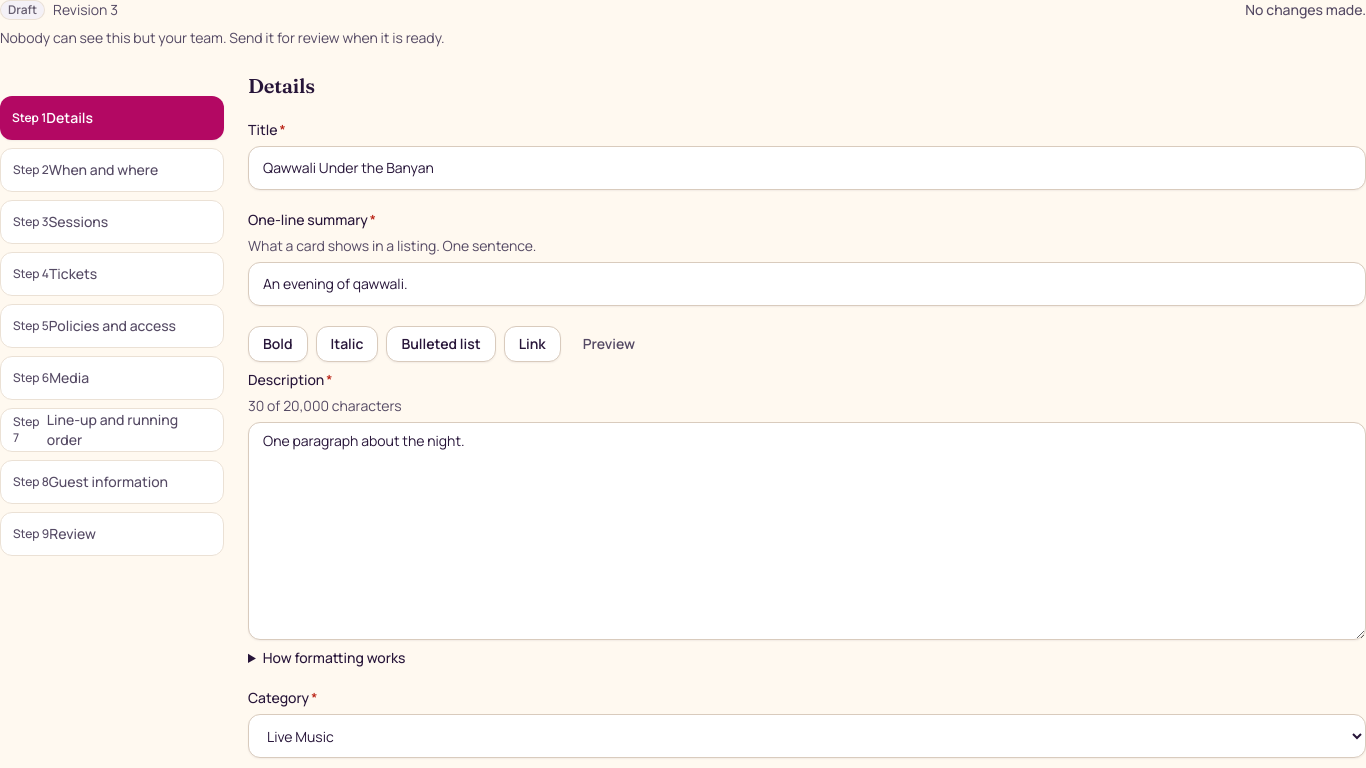
Test case: the steps › render the sessions, tickets and review panels
The width and height of the screenshot is (1366, 768).
Click the button "Step 3 Sessions": (112, 222) [0, 200, 224, 244]
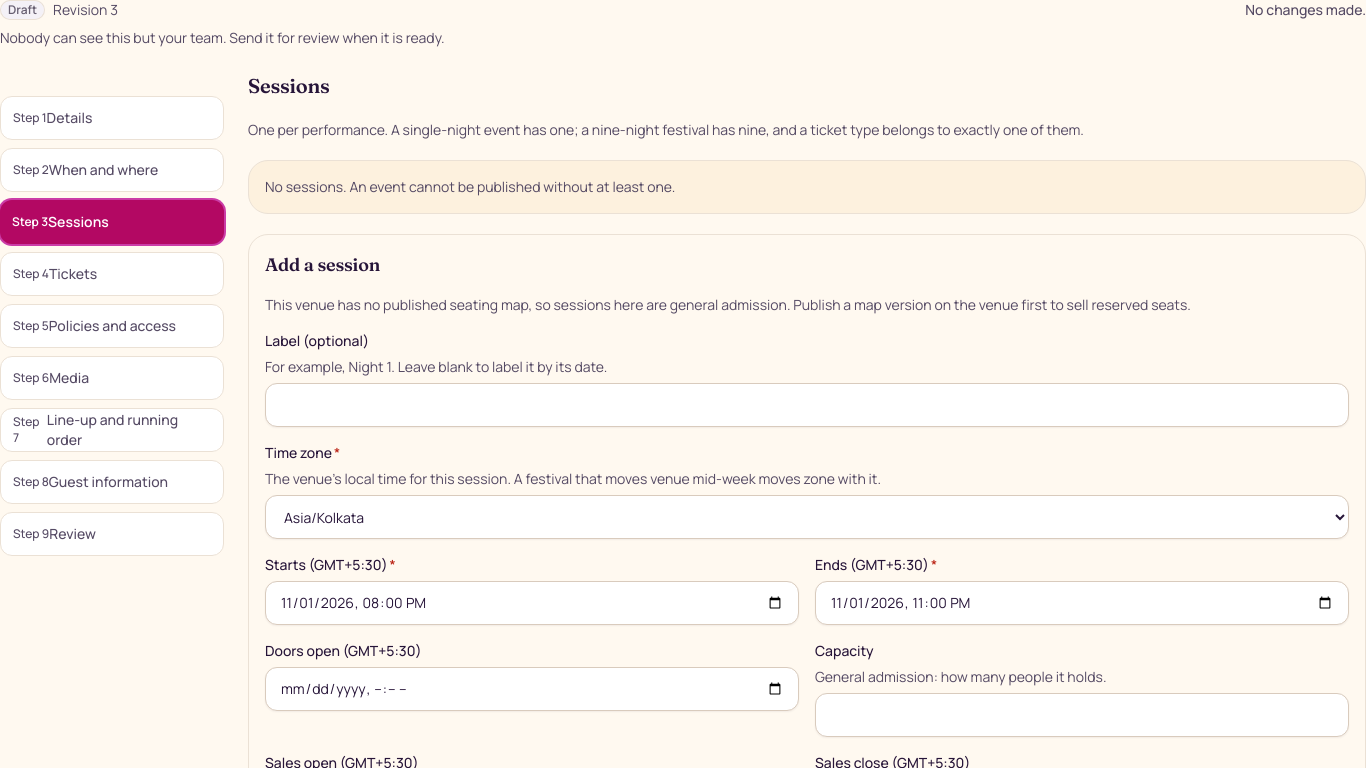
Expected: the heading "Sessions" is shown, [248, 73, 330, 98]
Click the button "Step 4 Tickets": (112, 274) [0, 252, 224, 296]
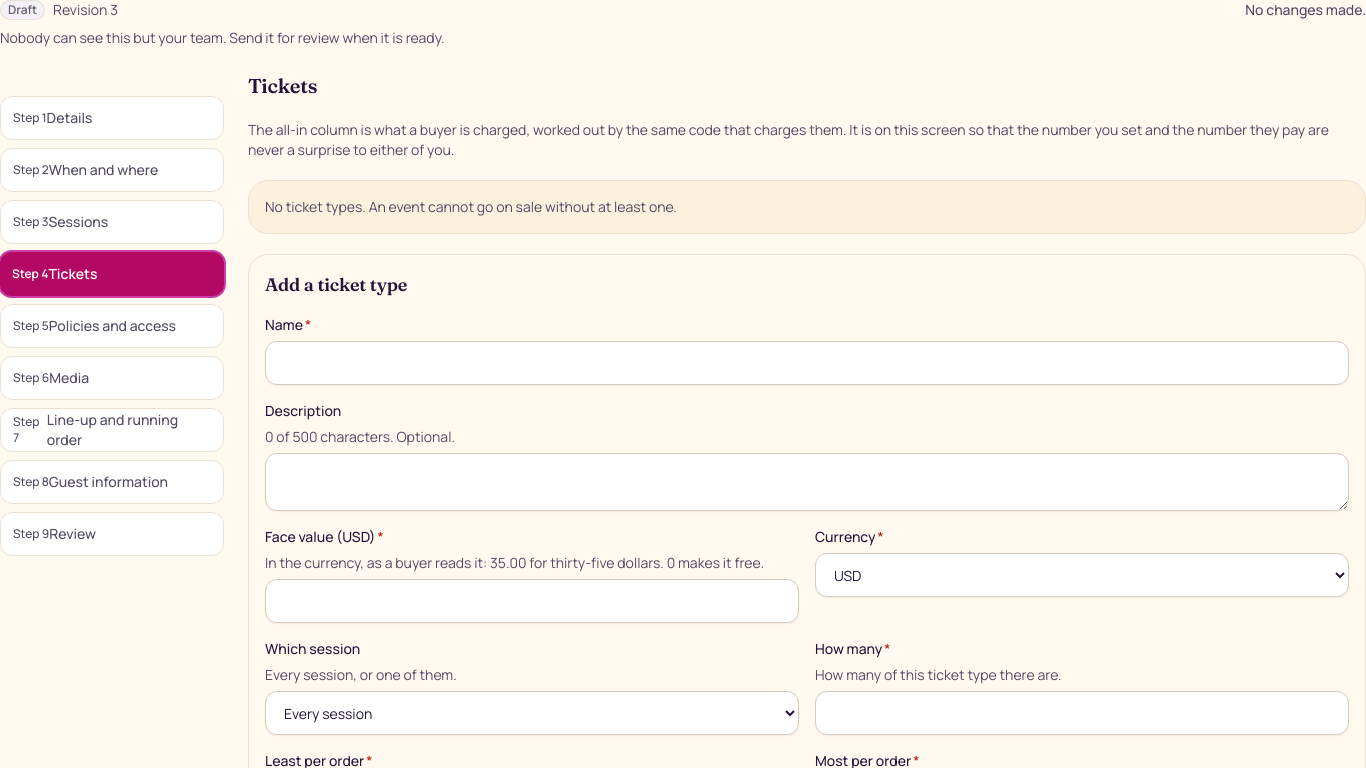
Expected: the heading "Tickets" is shown, [248, 73, 317, 98]
Click the button "Step 7 Line-up and running order": (112, 430) [0, 408, 224, 452]
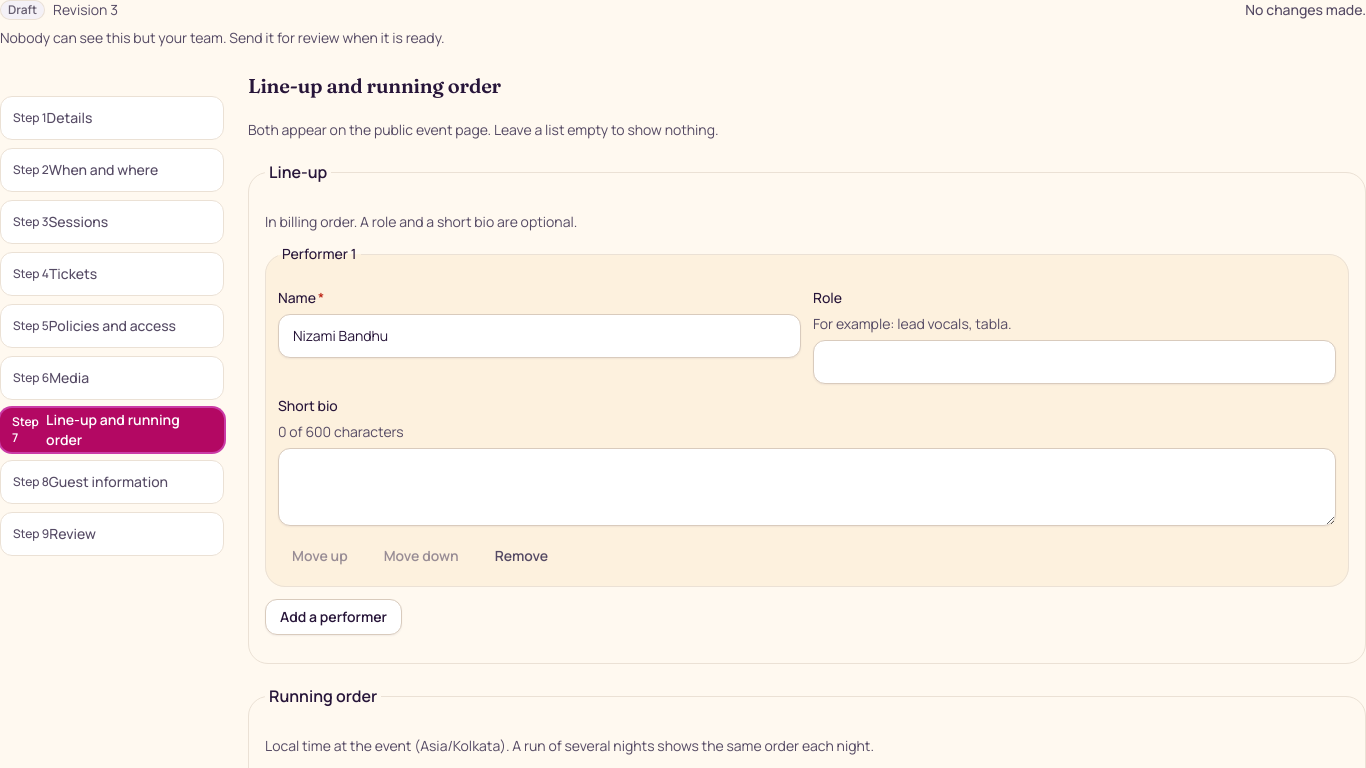
Expected: the heading "Line-up and running order" is shown, [248, 73, 501, 98]
Click the button "Step 8 Guest information": (112, 482) [0, 460, 224, 504]
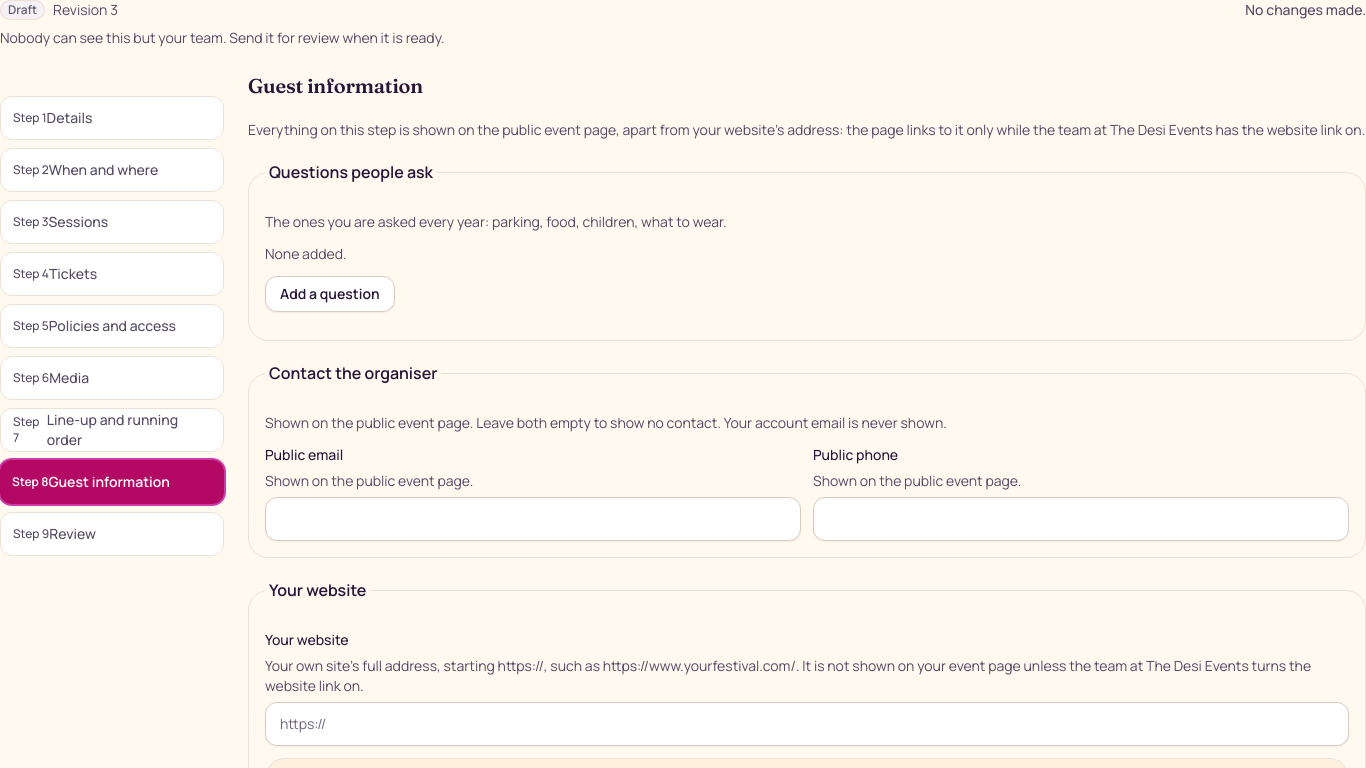
Expected: the heading "Guest information" is shown, [248, 73, 423, 98]
Click the button "Step 9 Review": (112, 534) [0, 512, 224, 556]
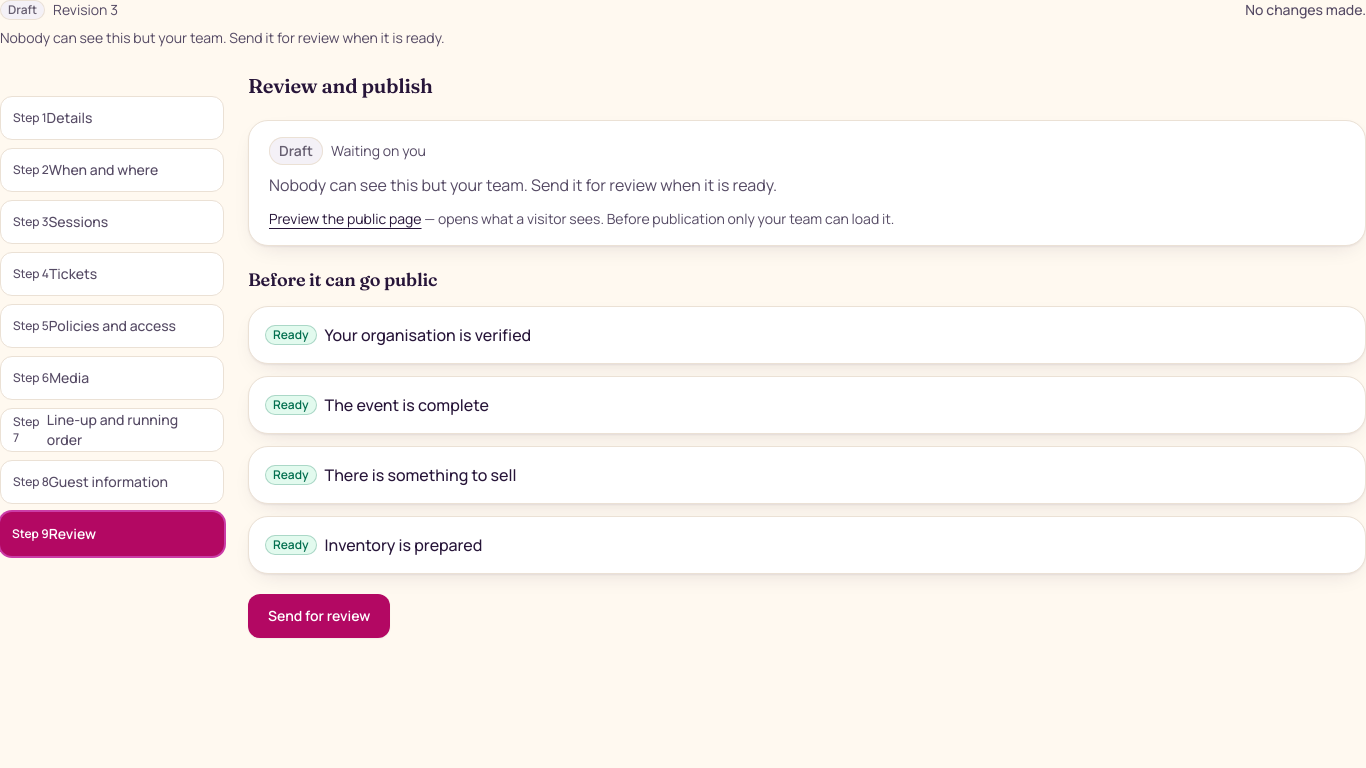
Expected: the heading "Review and publish" is shown, [248, 73, 433, 98]
